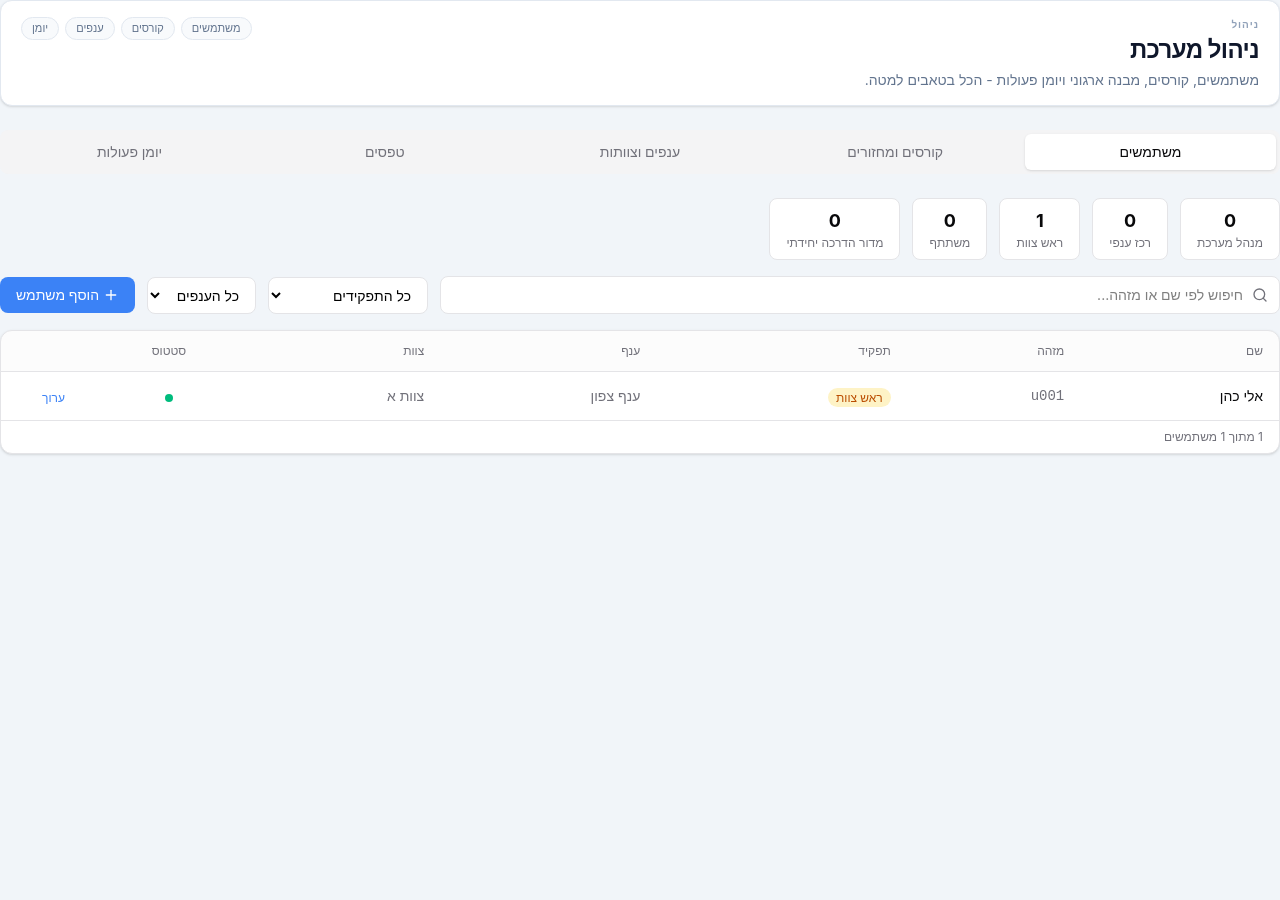
Admin page › create user modal closes after successful submit
The image size is (1280, 900).
Expected: the text "אלי כהן" is shown, 1080,372 -> 1279,420
Click the button "הוסף משתמש".
click(68, 295)  # box 0,277 -> 135,313
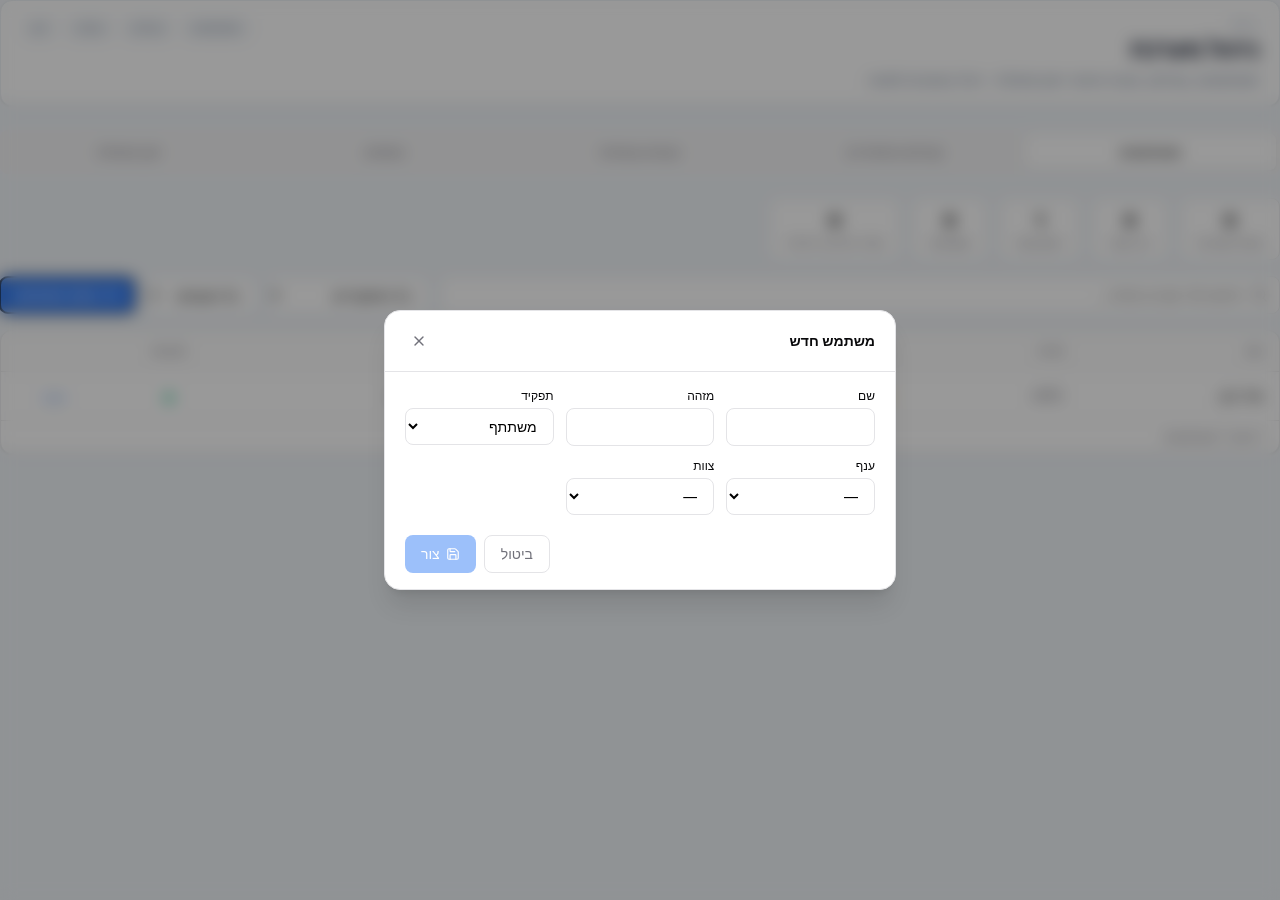
Type "שם" into the 2nd field.
click(801, 427); type("שם")  # box 726,408 -> 875,446
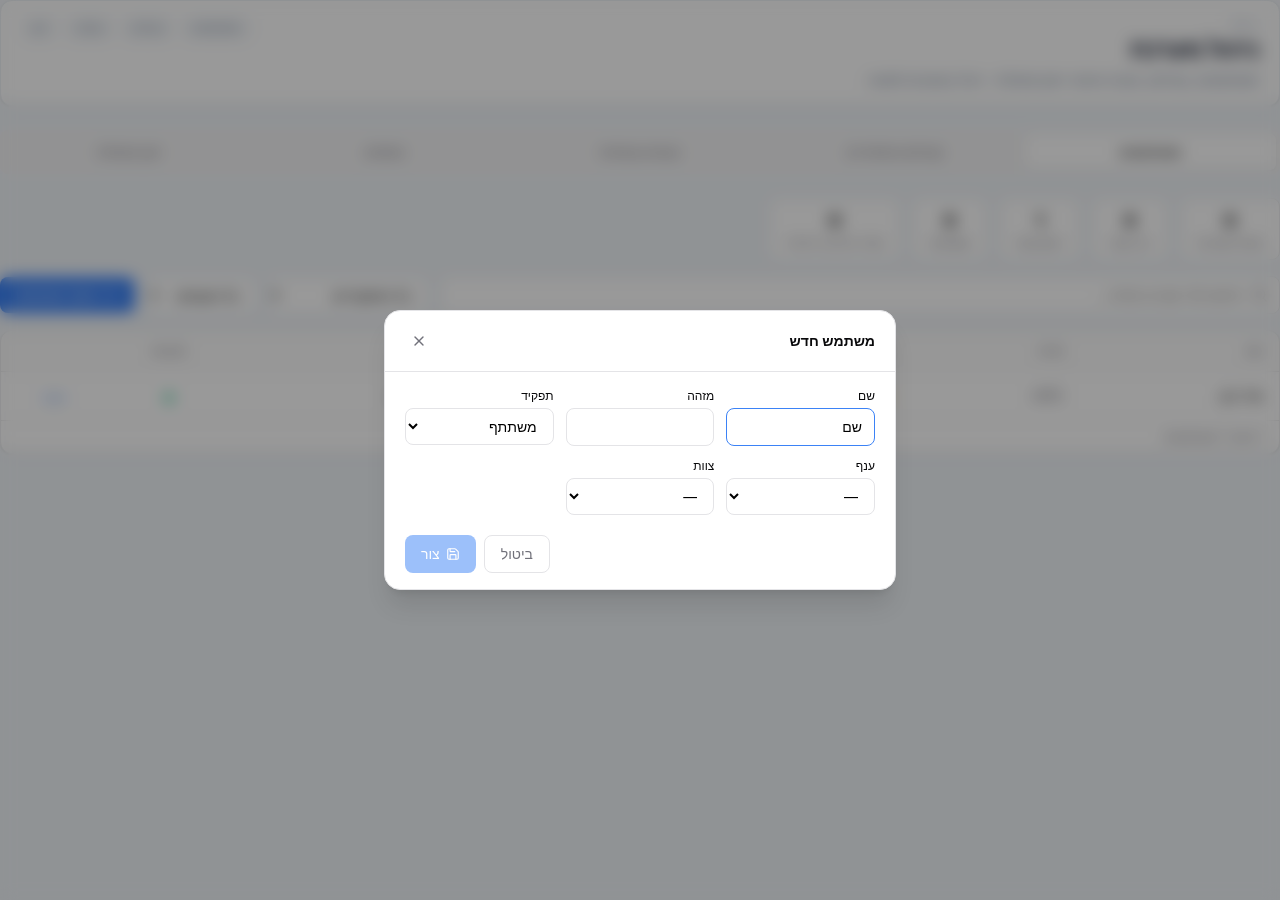
Type "id001" into the 1st field.
click(640, 427); type("id001")  # box 566,408 -> 714,446
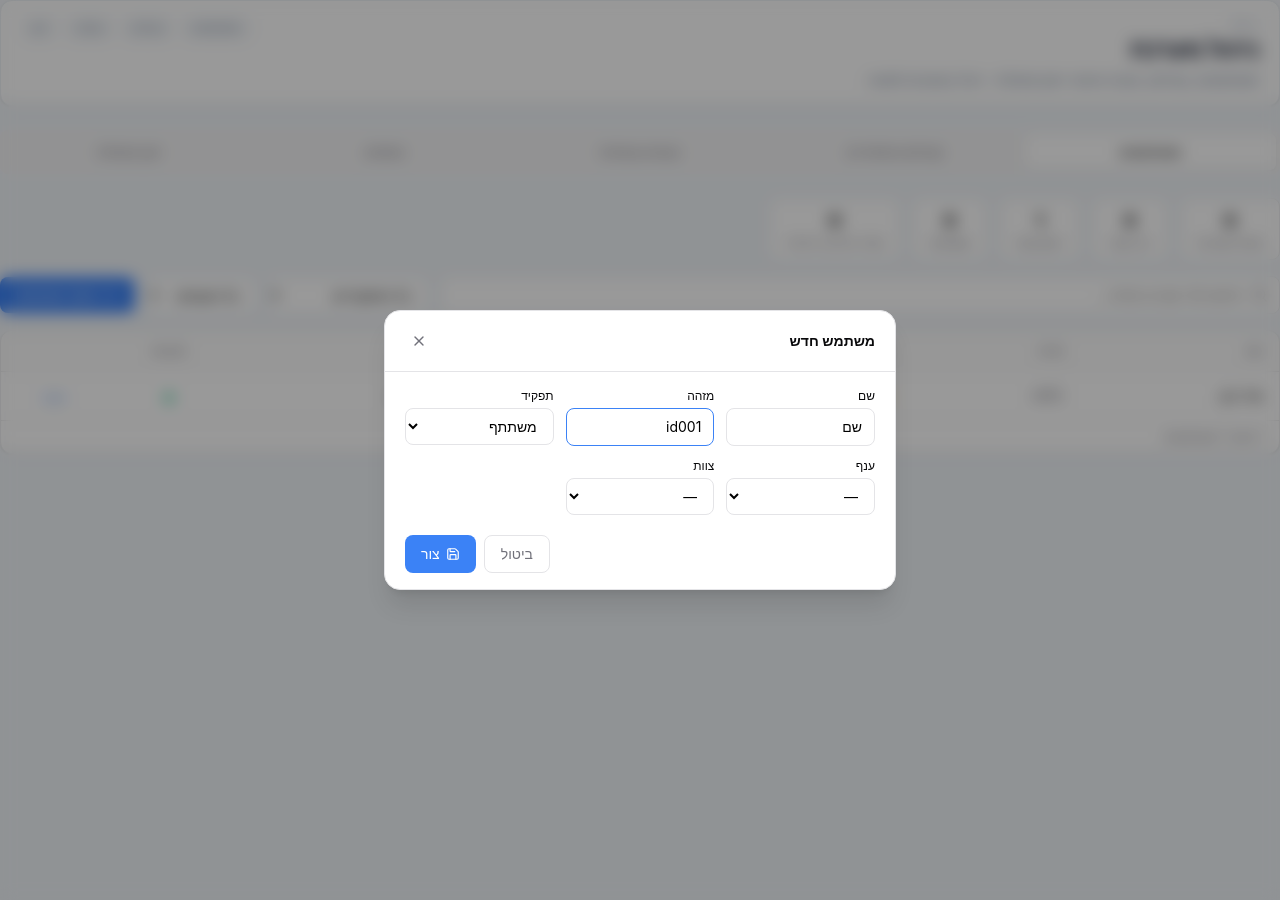
Click the button "צור".
click(440, 554)  # box 405,535 -> 476,573
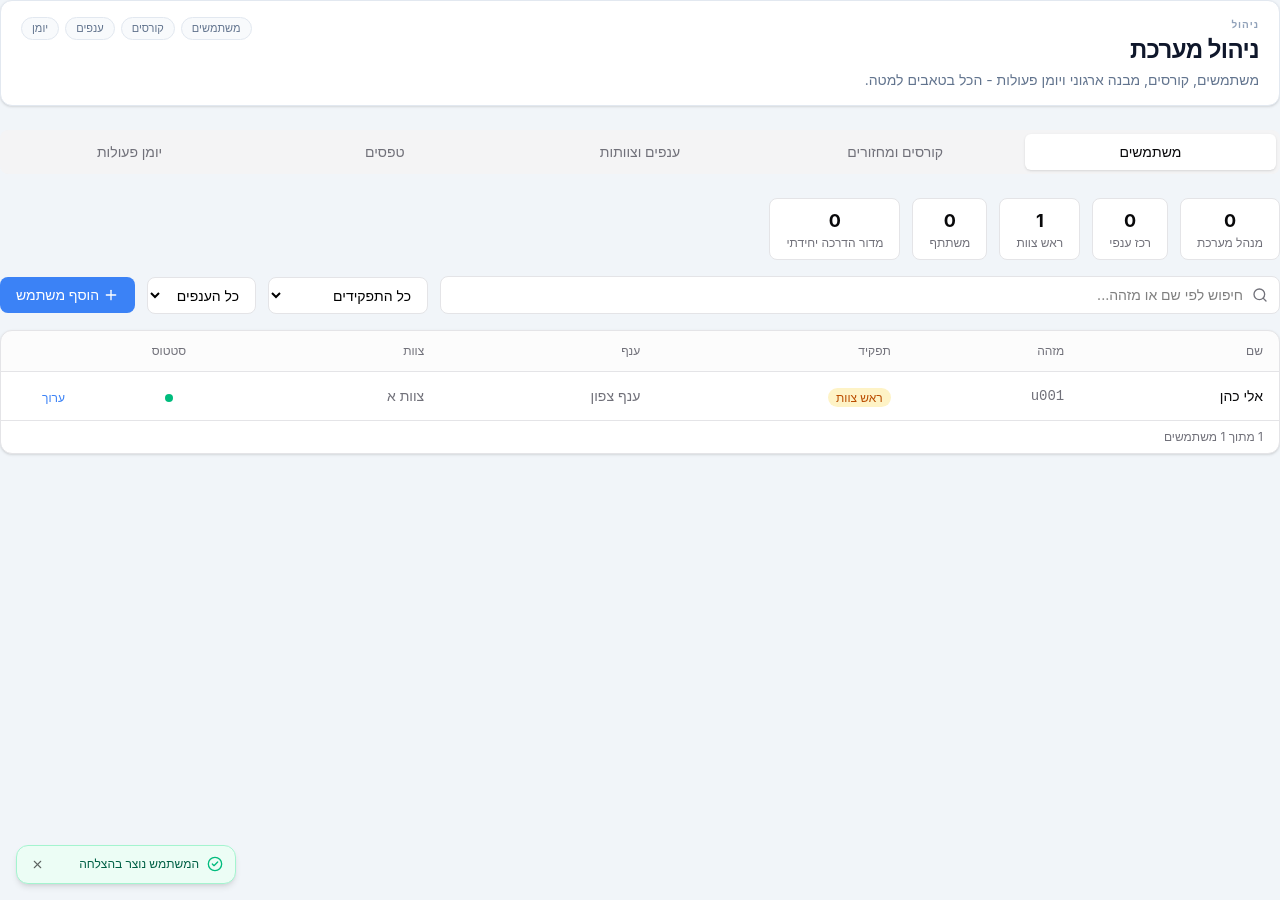
Now the dialog is gone
